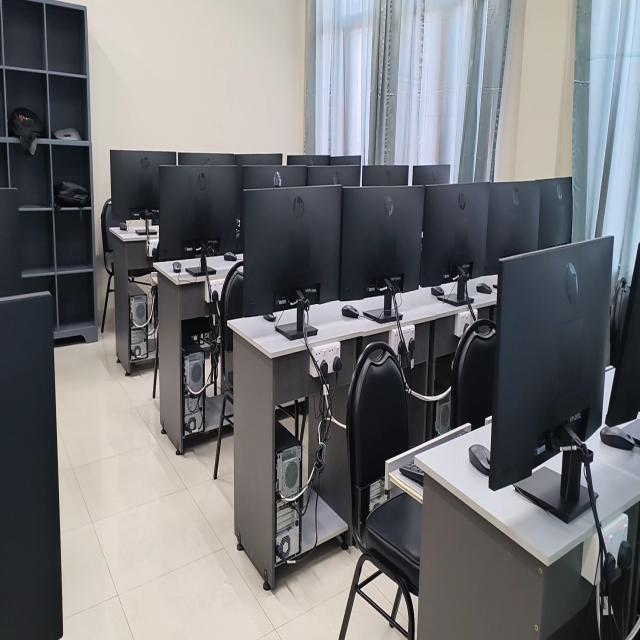Chair: (339, 342, 421, 639), (213, 261, 243, 478), (451, 319, 497, 429), (101, 199, 114, 332)
Cpu: (274, 413, 303, 567), (179, 327, 205, 435), (129, 277, 150, 359), (435, 379, 454, 437)
Keyboard: (399, 462, 424, 487)
Monitor: (488, 236, 613, 522), (0, 292, 63, 639), (243, 185, 345, 340), (339, 186, 424, 322), (156, 165, 239, 276), (420, 183, 490, 305), (606, 245, 640, 426), (481, 181, 540, 274), (111, 150, 176, 224), (0, 187, 22, 297), (538, 177, 572, 248), (242, 165, 307, 190), (307, 165, 360, 186), (363, 165, 408, 186), (412, 164, 450, 185), (177, 153, 235, 165), (235, 153, 283, 166), (287, 155, 330, 165), (329, 156, 361, 165)
Mouse: (600, 426, 634, 450), (469, 444, 490, 475), (342, 305, 359, 318), (476, 282, 492, 294), (431, 286, 444, 297), (262, 313, 276, 322), (224, 252, 237, 261), (173, 261, 181, 273), (119, 222, 127, 229)
